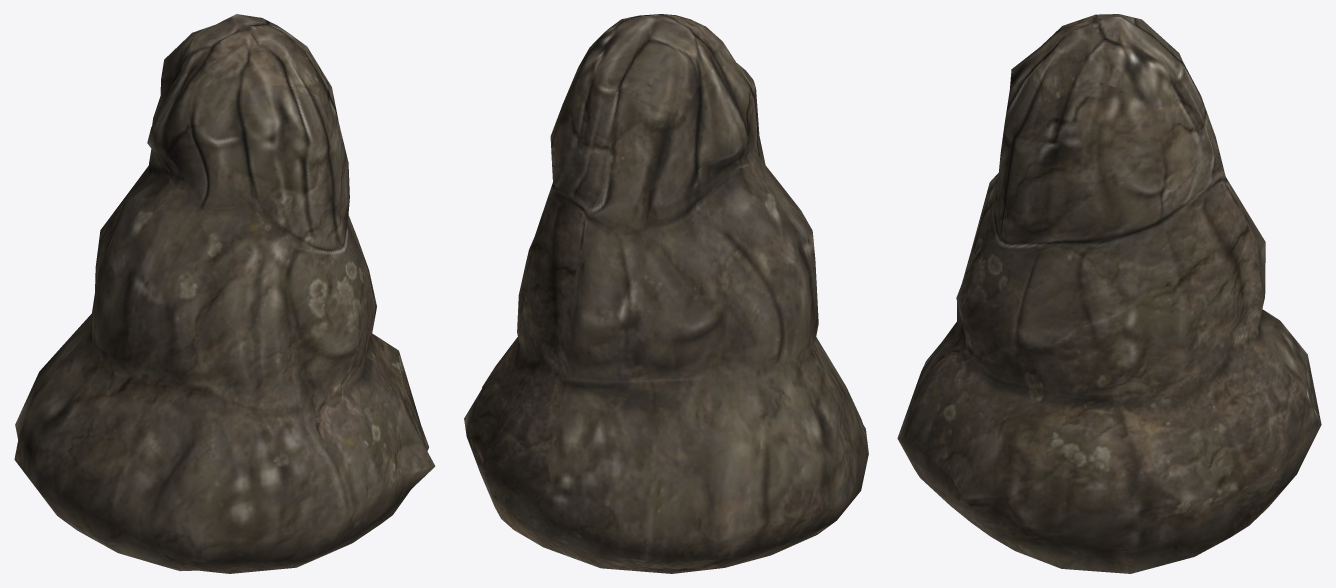
File: stalagmite_small_02.dae
3 renders of one model, left to right at view 1: azimuth 30°, elevation 25°; view 2: azimuth 150°, elevation 25°; view 3: azimuth 270°, elevation 25°, orthographic.
Visible parts, largest first — view 1: stalagmite_small_02__2_; view 2: stalagmite_small_02__2_; view 3: stalagmite_small_02__2_.
Boxes of the visible parts, bbox=[...] form: stalagmite_small_02__2_: bbox=[14, 14, 435, 573]; stalagmite_small_02__2_: bbox=[464, 14, 868, 573]; stalagmite_small_02__2_: bbox=[897, 14, 1321, 573].
Size of the model in its own units: 0.8641 by 1.16 by 0.8696.
